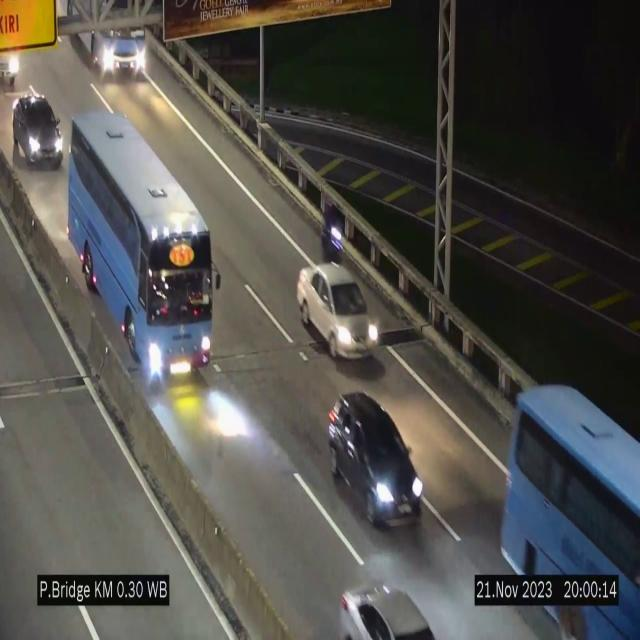Bus: (66, 106, 222, 385), (58, 0, 153, 83)
Car: (330, 386, 428, 525), (296, 262, 386, 360), (11, 85, 67, 167)
Motorcycle: (321, 201, 342, 261)
